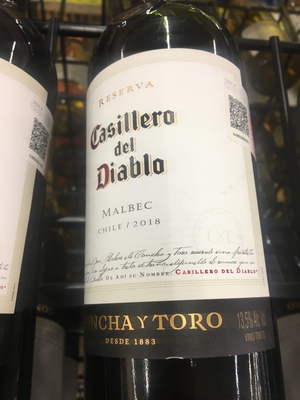casillero del diablo malbec: (71, 15, 274, 356)
